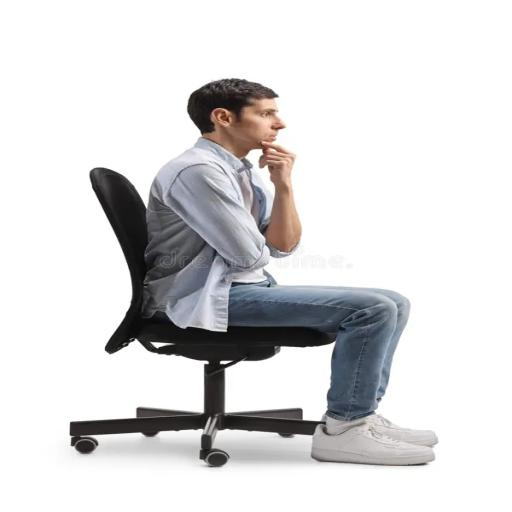bottle: (70, 168, 335, 466)
crosswalk: (142, 78, 438, 465)
